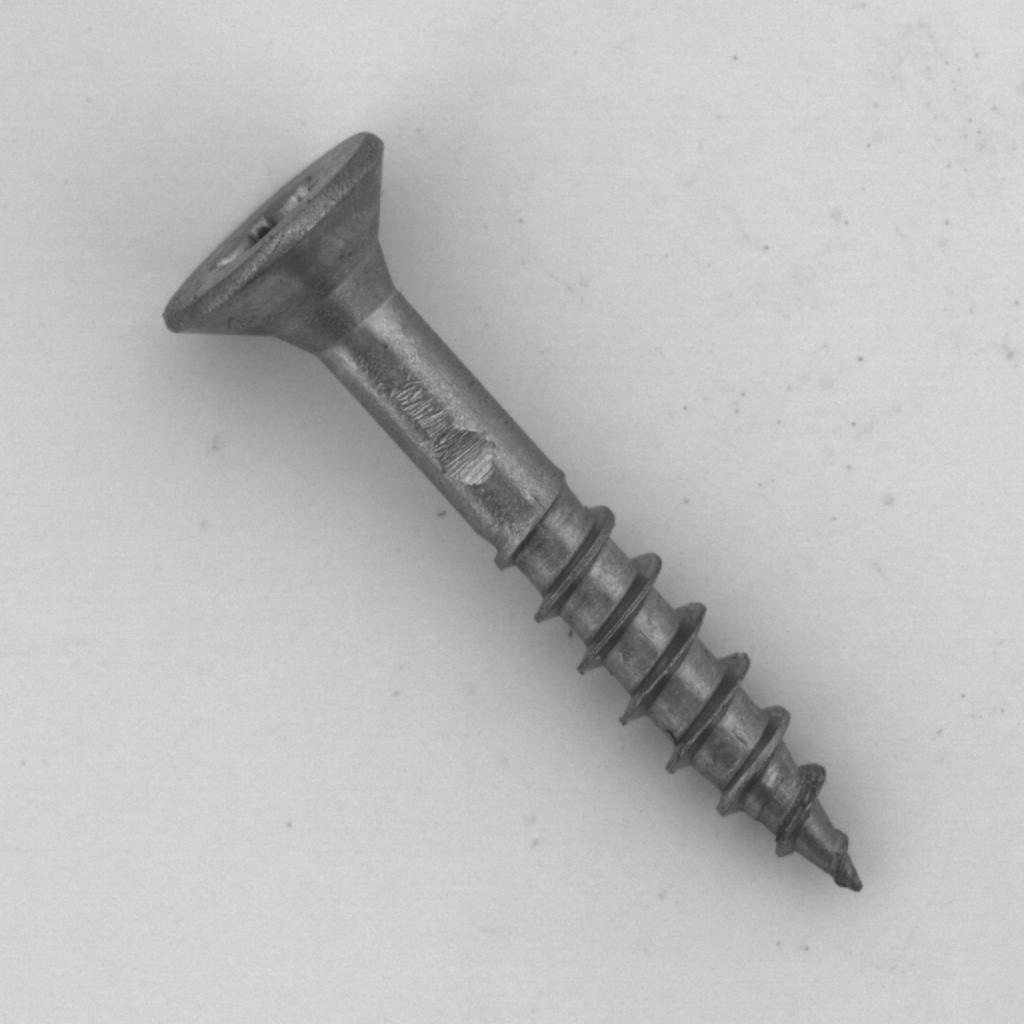bad: (128, 103, 907, 928)
